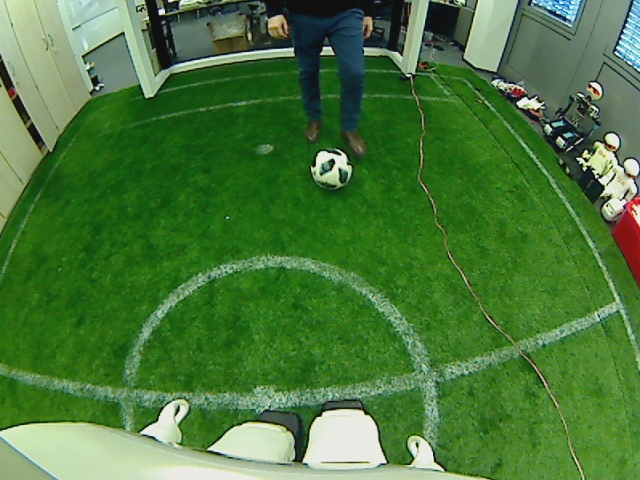ball: (309, 145, 355, 191)
